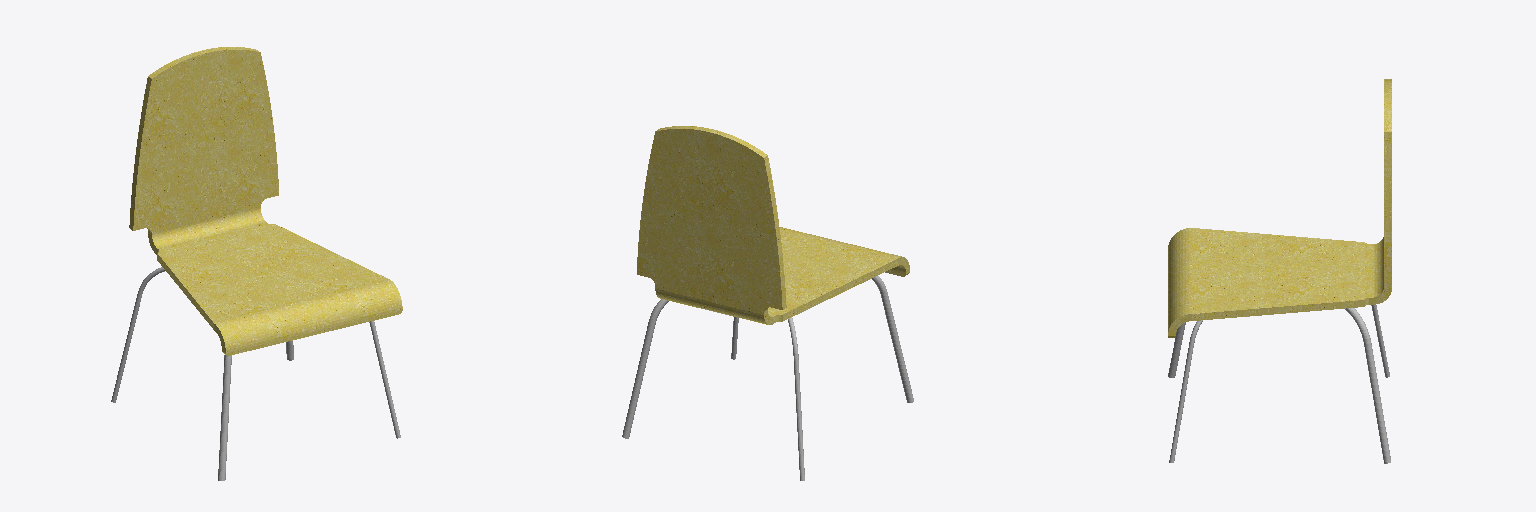
3 views of the same model, side by side, from view 1: azimuth 30°, elevation 25°; view 2: azimuth 150°, elevation 25°; view 3: azimuth 270°, elevation 25° (orthographic).
Visible parts, largest first — view 1: Mesh3 Model, Mesh2 Model, Mesh1 Model; view 2: Mesh3 Model, Mesh1 Model, Mesh2 Model; view 3: Mesh3 Model, Mesh1 Model, Mesh2 Model.
Part boxes in pixels (left/top/right/bottom): Mesh3 Model: left=129, top=47, right=402, bottom=355; Mesh2 Model: left=111, top=267, right=400, bottom=438; Mesh1 Model: left=218, top=341, right=293, bottom=480; Mesh3 Model: left=637, top=126, right=909, bottom=324; Mesh1 Model: left=622, top=276, right=913, bottom=438; Mesh2 Model: left=731, top=317, right=804, bottom=480; Mesh3 Model: left=1168, top=79, right=1391, bottom=337; Mesh1 Model: left=1168, top=308, right=1390, bottom=463; Mesh2 Model: left=1169, top=305, right=1389, bottom=462.
Size of the model in its own units: 53.89 by 92.21 by 57.02.
3 materials, 1 textured.